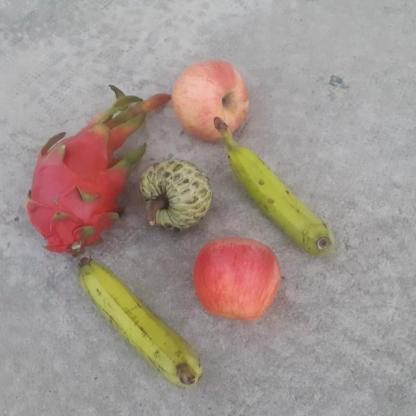annona: (138, 157, 214, 233)
apple: (190, 234, 284, 324), (169, 58, 248, 144)
banana: (208, 118, 336, 256), (75, 257, 203, 385)
pitaya: (21, 119, 134, 258)
